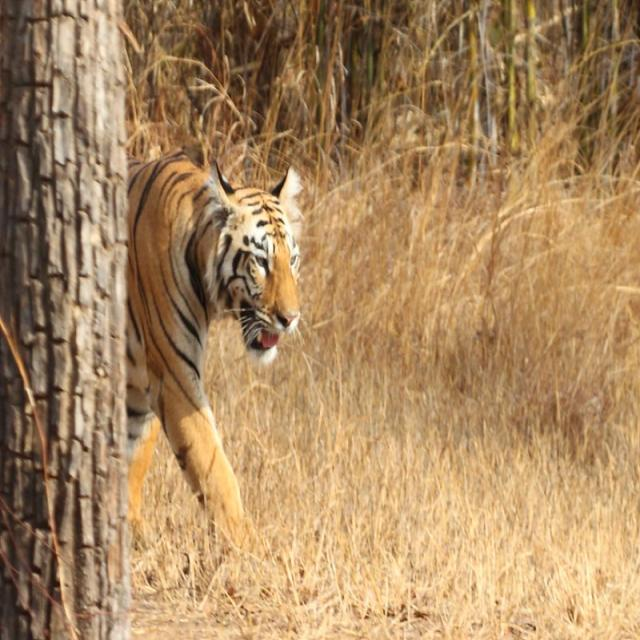Tiger: (112, 137, 308, 578)
